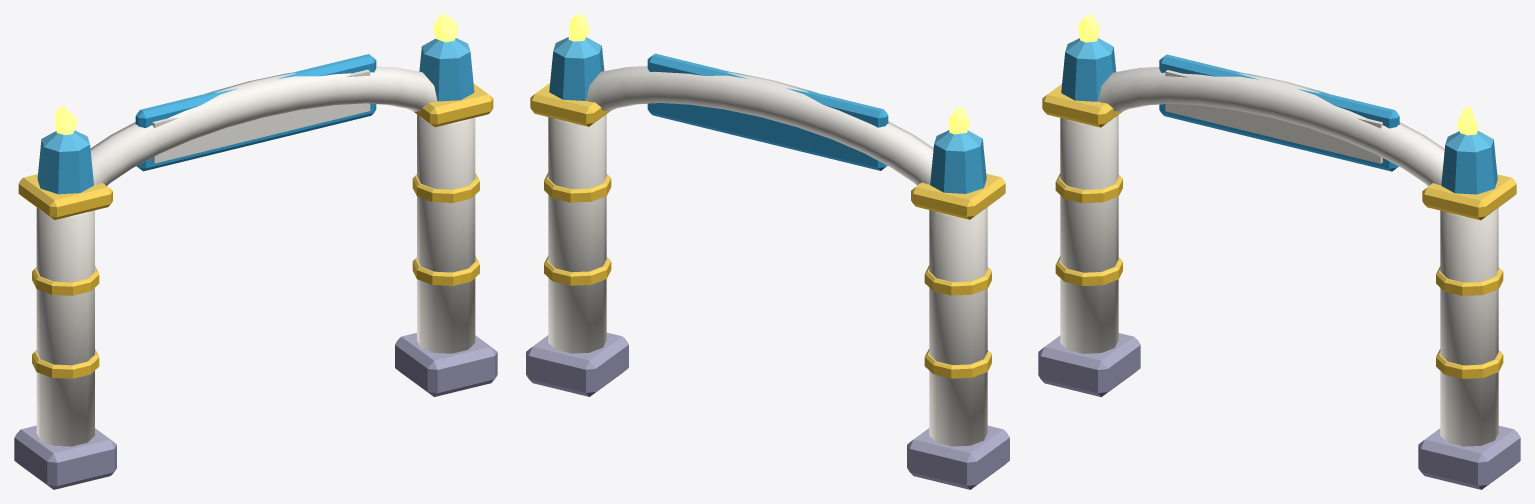
File: WelcomeArch.glb
3 views of the same model, side by side, from view 1: azimuth 30°, elevation 25°; view 2: azimuth 150°, elevation 25°; view 3: azimuth 330°, elevation 25° (orthographic).
Parts seen in each view (by area): view 1: WelcomeArch, WelcomeArch_Glow_beacon; view 2: WelcomeArch, WelcomeArch_Glow_beacon; view 3: WelcomeArch, WelcomeArch_Glow_beacon.
Part boxes in pixels (left/top/right/bottom): WelcomeArch: left=14, top=38, right=497, bottom=489; WelcomeArch_Glow_beacon: left=54, top=14, right=458, bottom=135; WelcomeArch: left=526, top=37, right=1009, bottom=489; WelcomeArch_Glow_beacon: left=568, top=14, right=969, bottom=134; WelcomeArch: left=1038, top=38, right=1520, bottom=489; WelcomeArch_Glow_beacon: left=1078, top=14, right=1478, bottom=135.
Size of the model in its own units: 28.4 by 21.9 by 4.4.
Materials: 2 (1 with a texture image).
